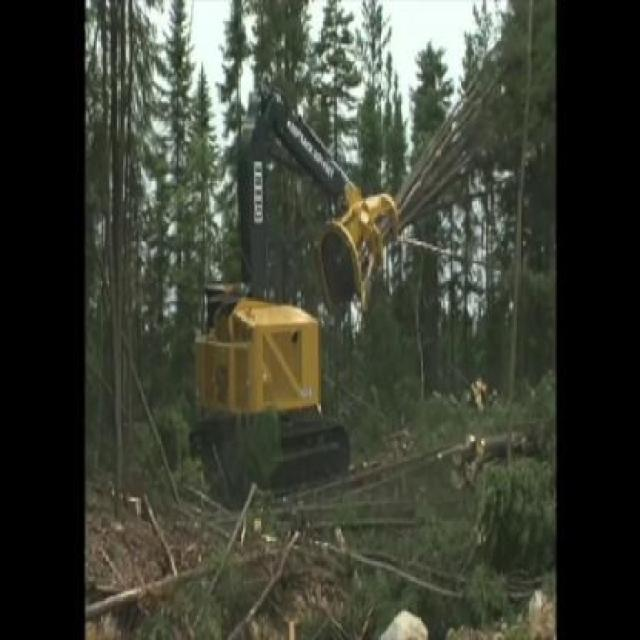excavator: (177, 86, 400, 492)
